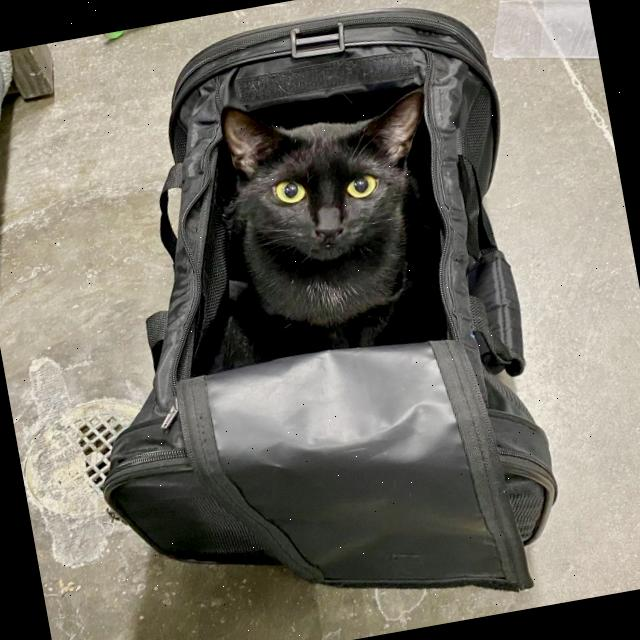bombay_cat: (192, 65, 458, 300)
